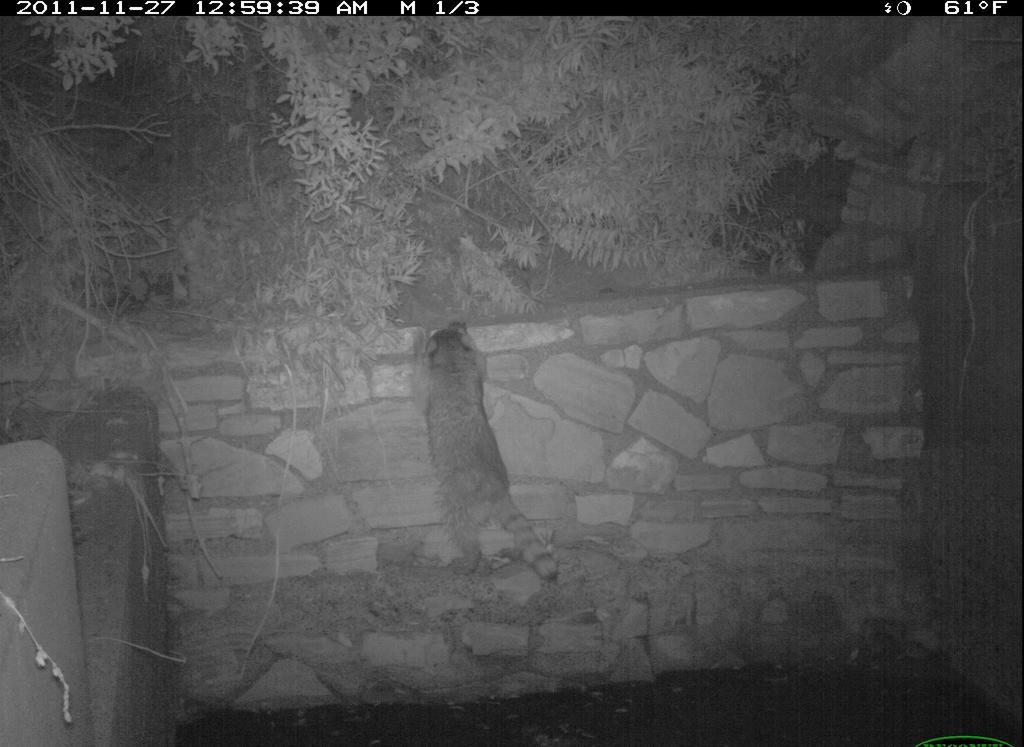raccoon: (406, 317, 568, 585)
